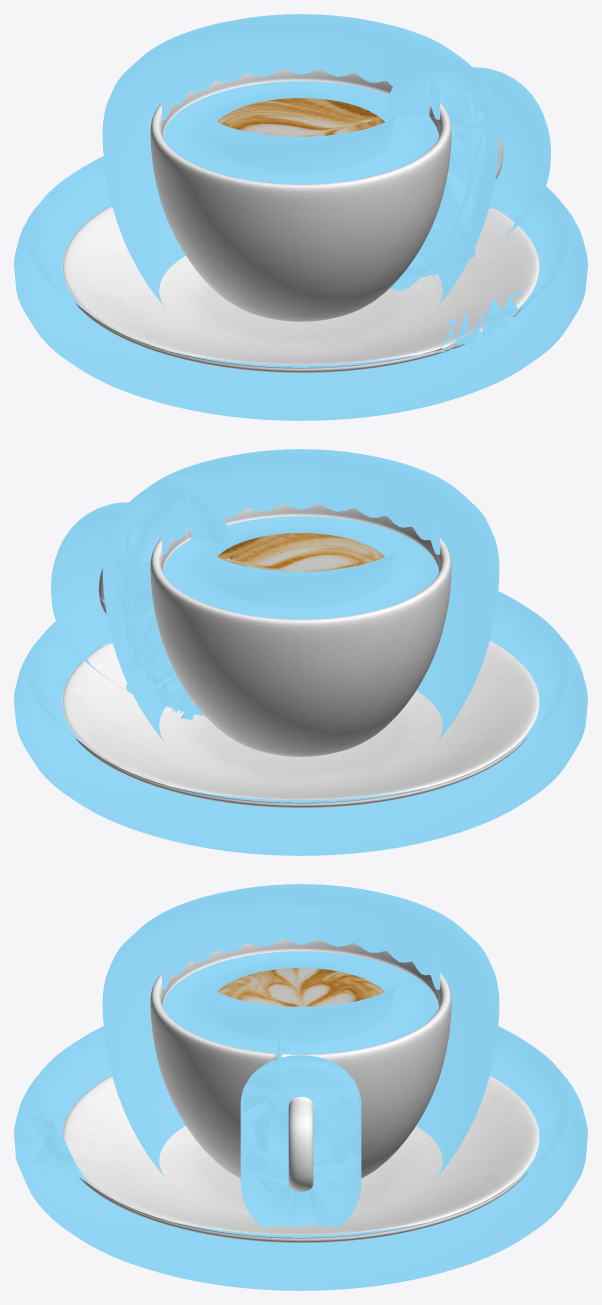
File: CupBorder.glb
The picture shows the model from 3 angles, top to bottom: view 1: azimuth 30°, elevation 25°; view 2: azimuth 150°, elevation 25°; view 3: azimuth 270°, elevation 25°; orthographic projection.
Parts seen in each view (by area): view 1: Coffee_Cup; view 2: Coffee_Cup; view 3: Coffee_Cup.
Boxes of the visible parts, x1,y1,x2,y2 form: Coffee_Cup: (14, 14, 587, 420); Coffee_Cup: (14, 449, 587, 855); Coffee_Cup: (14, 884, 587, 1290).
Size of the model in its own units: 7.7 by 4.04 by 7.7.
Materials: 2 (1 with a texture image).
